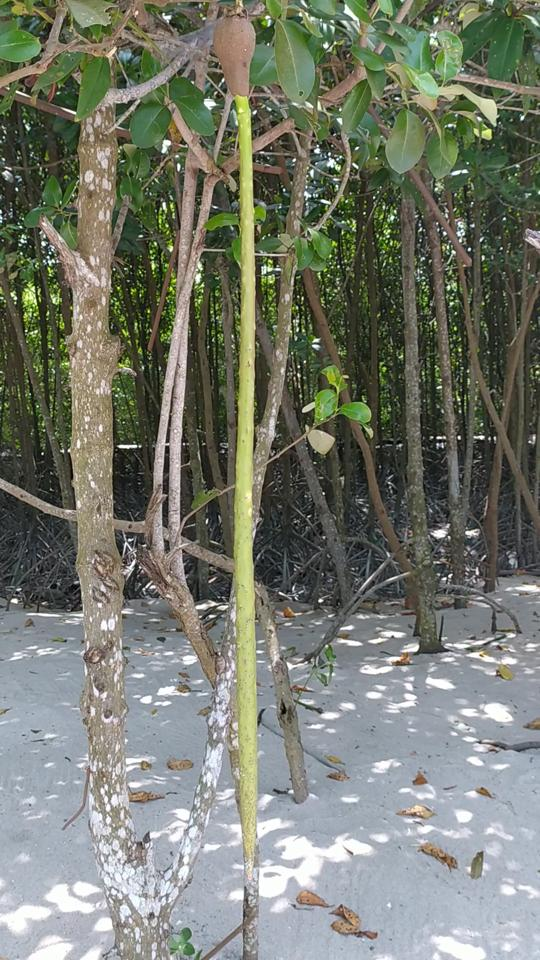mentah: (194, 4, 282, 911)
